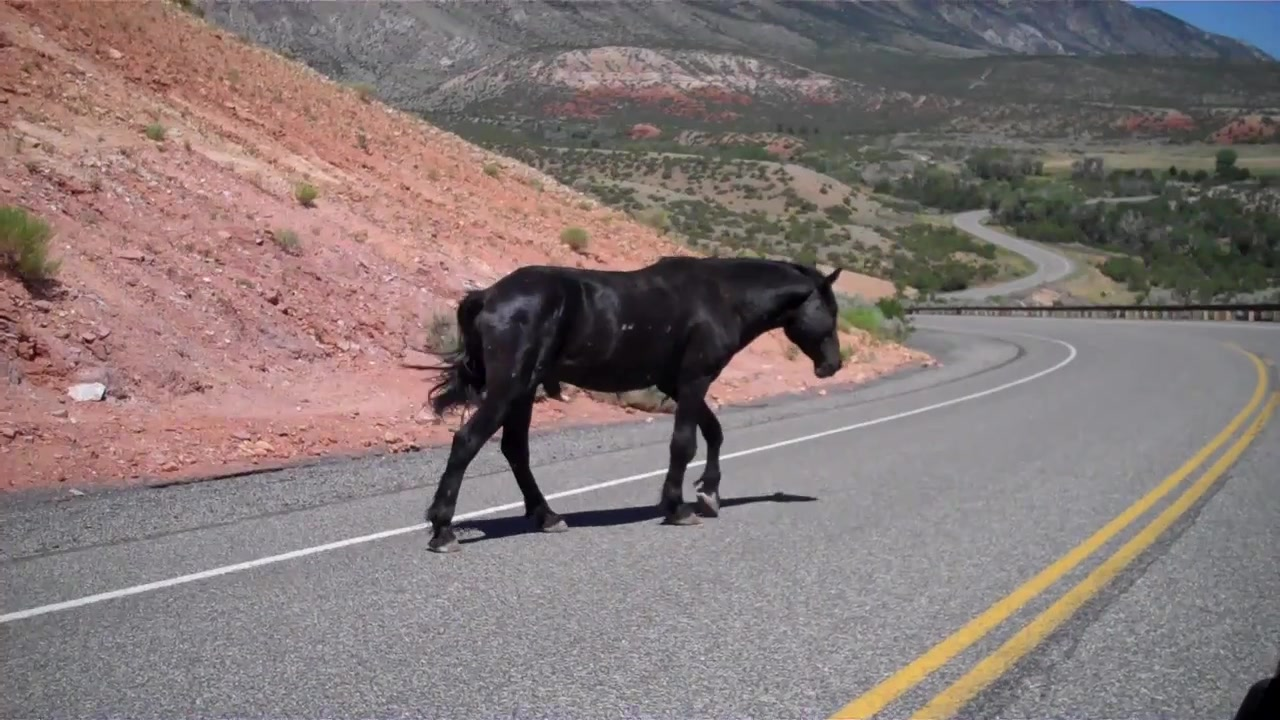horse: (399, 254, 849, 555)
